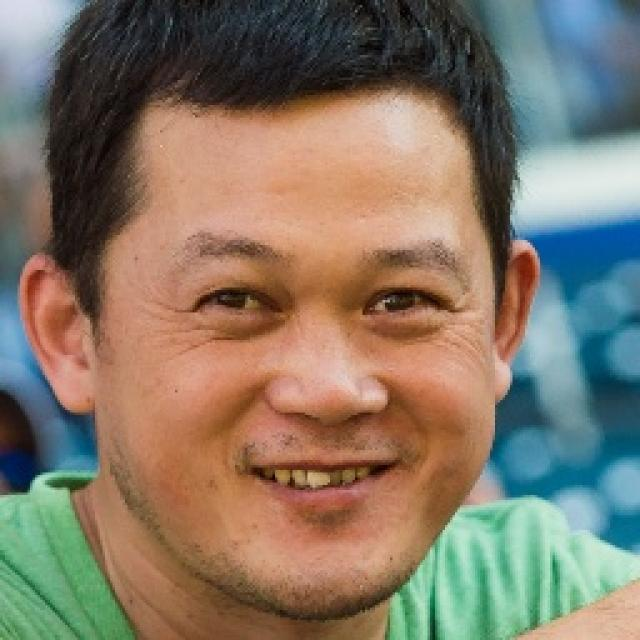earlobe: (54, 357, 98, 415), (492, 338, 515, 405)
eye: (363, 285, 441, 320), (196, 286, 278, 316)
nose: (265, 394, 395, 470)
wholeear: (18, 253, 97, 414), (493, 239, 539, 404)
